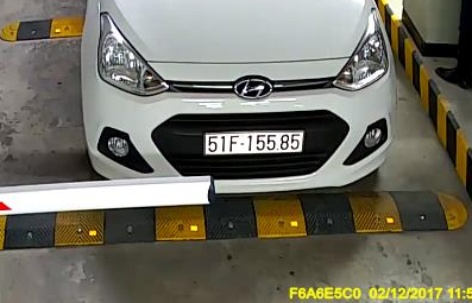plate: (204, 126, 305, 159)
